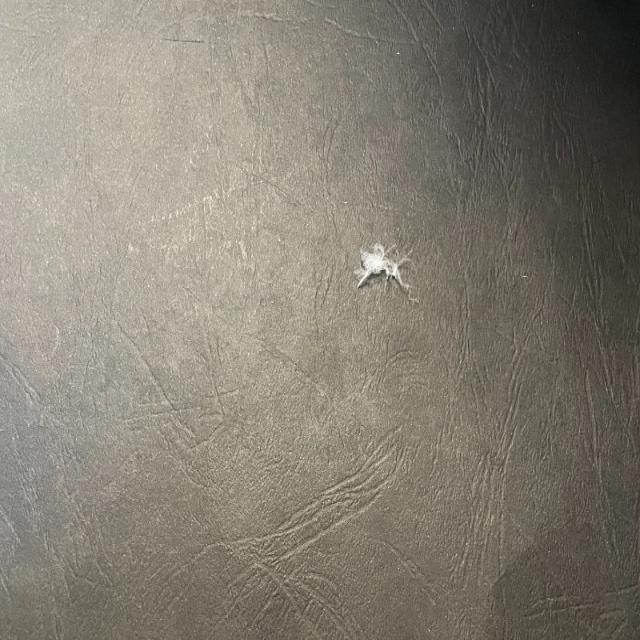feather: (346, 246, 405, 290)
